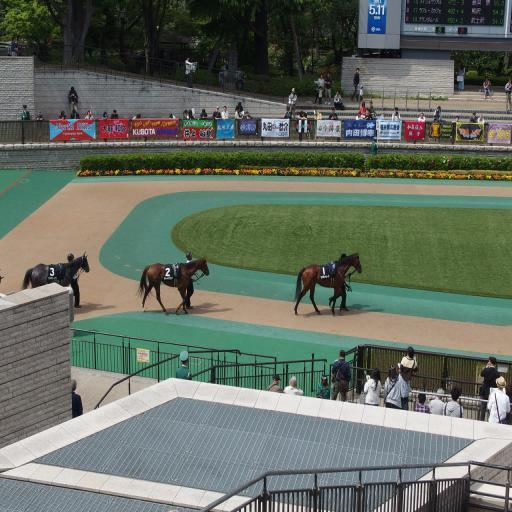horse: (134, 254, 210, 314), (295, 252, 363, 318), (18, 250, 92, 286)
